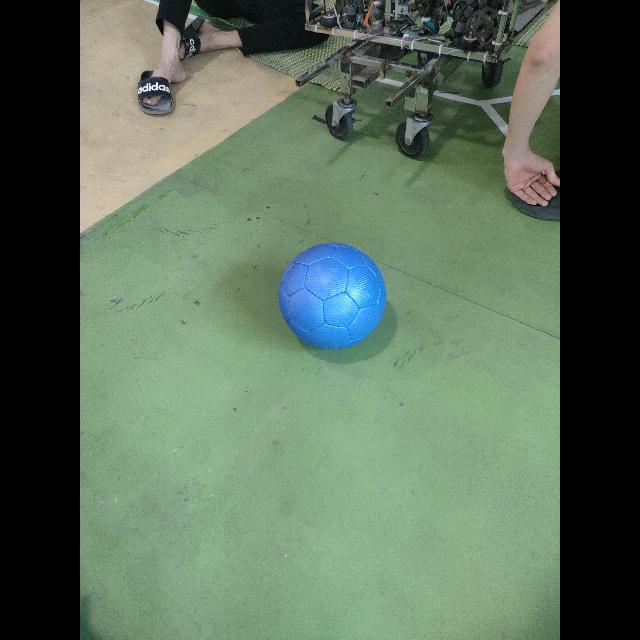B: (277, 243, 389, 352)
